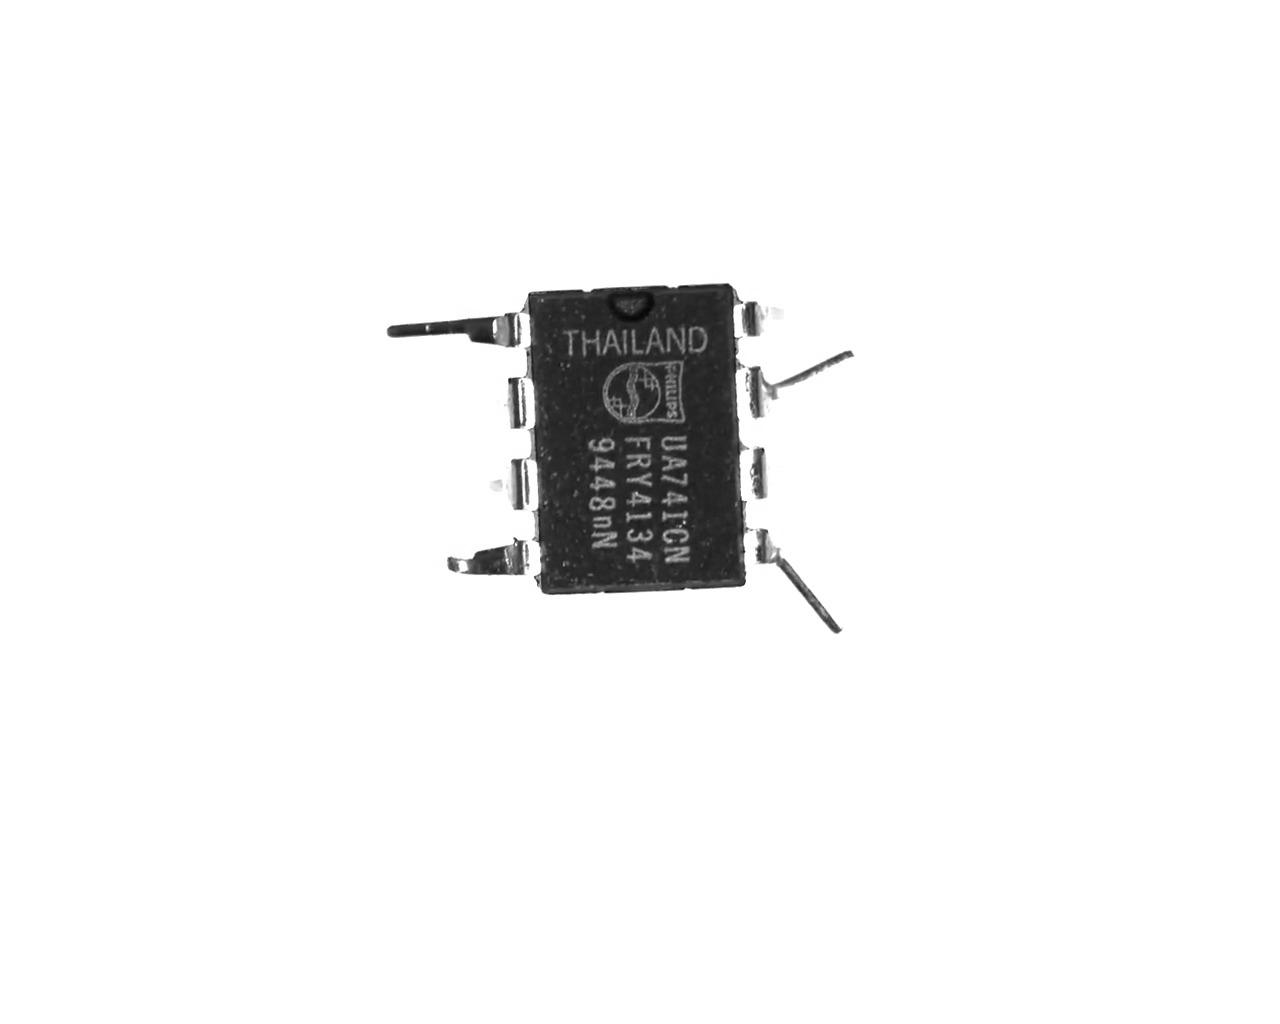Leg: (743, 521, 843, 639), (735, 347, 865, 421), (385, 306, 535, 358), (441, 536, 548, 587), (481, 455, 546, 513), (486, 371, 540, 439), (737, 293, 793, 343), (731, 437, 771, 507)
